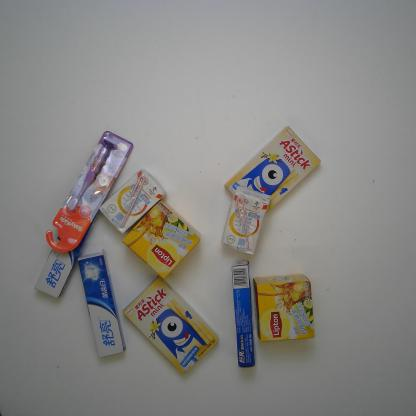Dessert: (119, 274, 221, 380), (223, 123, 324, 221)
Instant Drink: (124, 198, 202, 281), (252, 269, 317, 345)
Milk: (97, 168, 168, 235), (220, 185, 272, 256)
Personal Hygiene: (44, 130, 135, 253), (78, 249, 126, 363), (33, 225, 86, 300), (229, 259, 258, 370)
